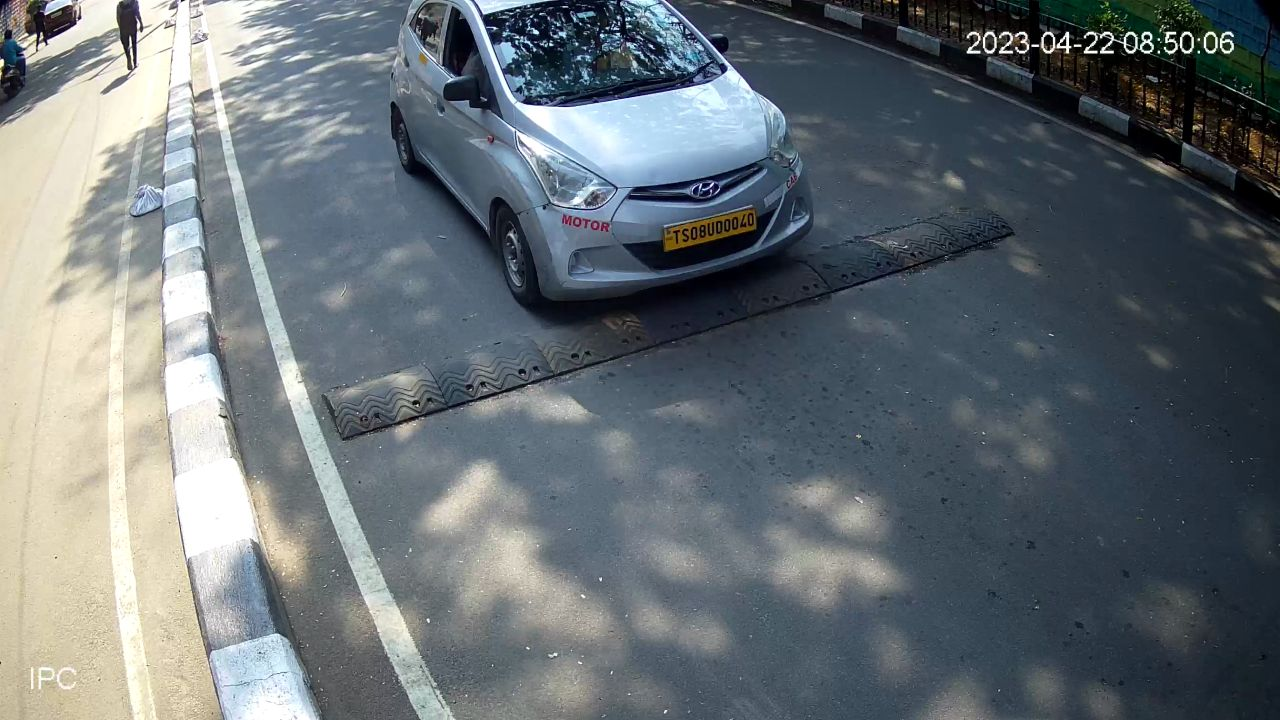license_plate: (655, 200, 759, 264)
